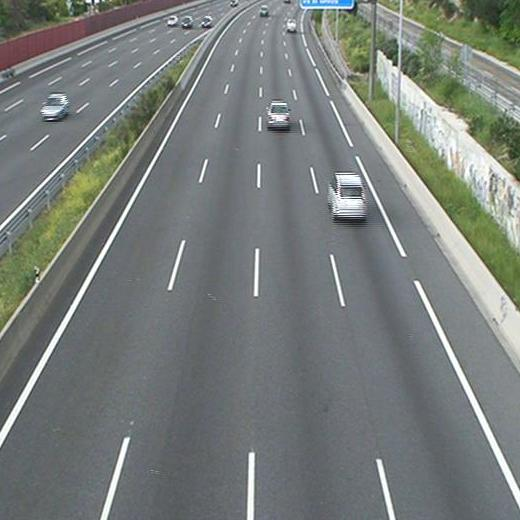car: (327, 173, 366, 219), (266, 103, 291, 127), (285, 19, 297, 32), (259, 6, 269, 16)
